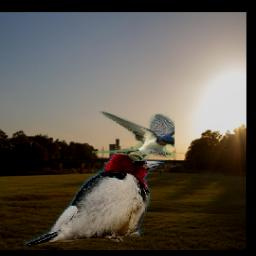Swallow: (92, 111, 175, 162)
Woodpecker: (23, 150, 165, 246)
